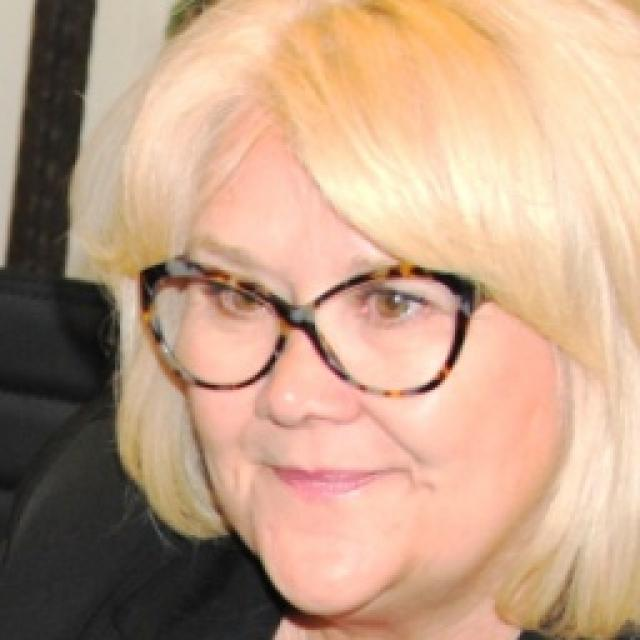glasses: (129, 232, 525, 402)
